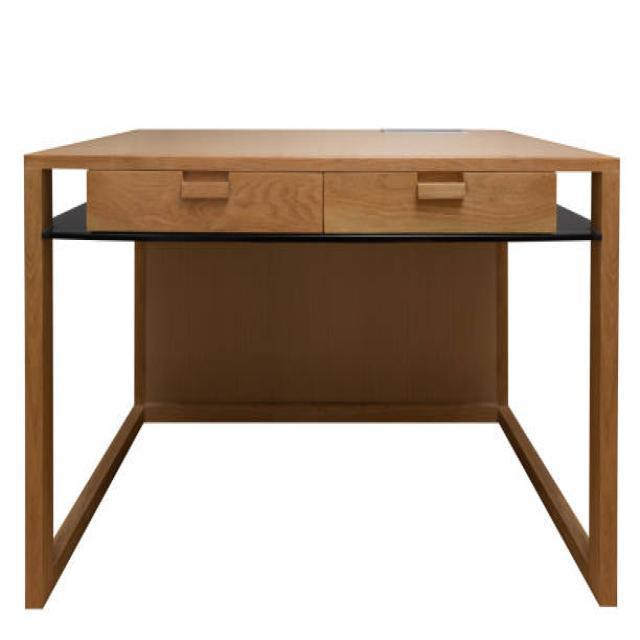table: (23, 125, 620, 610)
